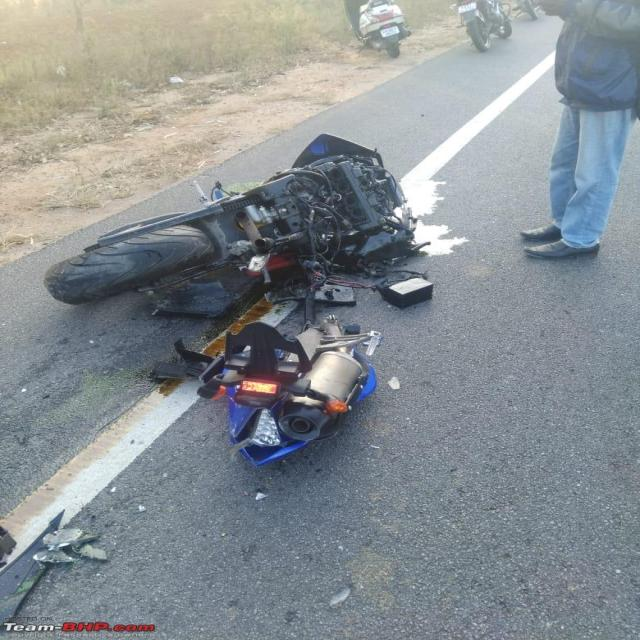accident: (45, 134, 433, 465)
